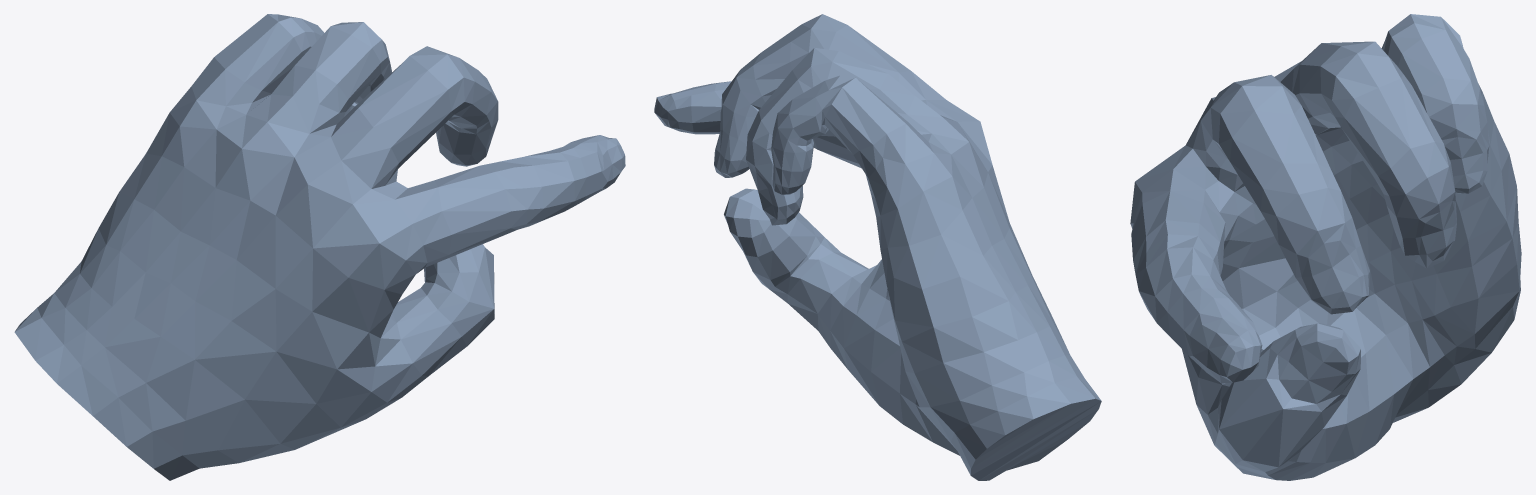
3 views of the same model, side by side, from view 1: azimuth 30°, elevation 25°; view 2: azimuth 150°, elevation 25°; view 3: azimuth 270°, elevation 25° (orthographic). The views are drawn at different scales.
Bounding box in the file's own units: 0.1677 × 0.1222 × 0.087.
